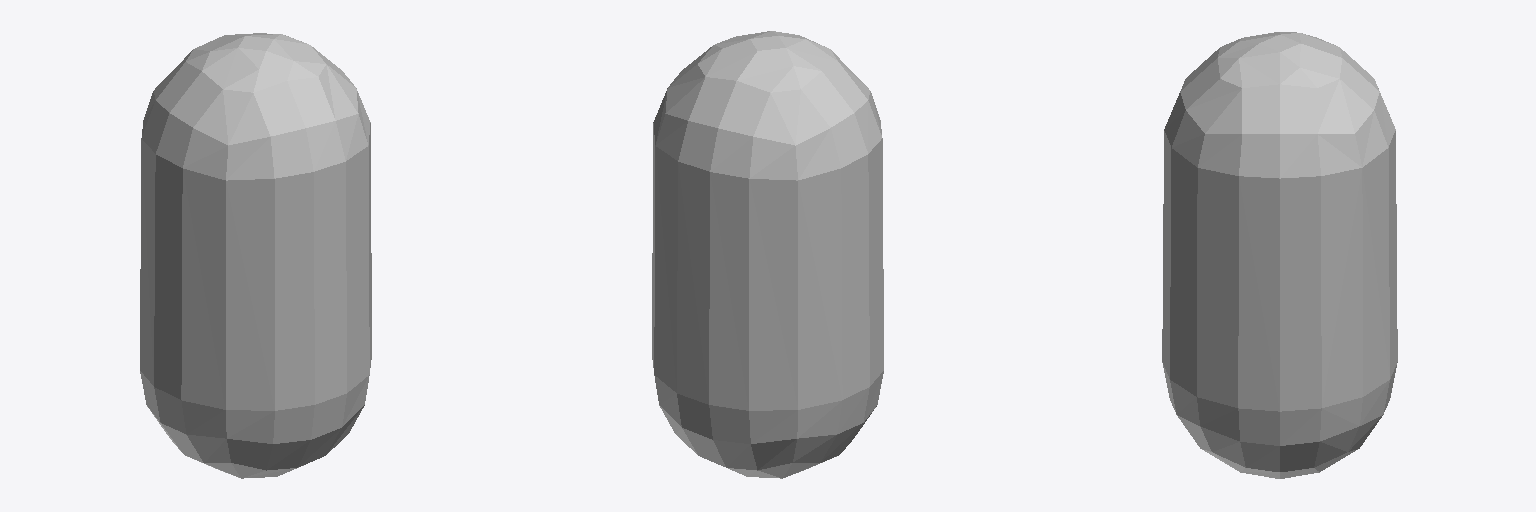
The model's file is SimpleCapsule.obj.
The picture shows the model from 3 angles: view 1: azimuth 30°, elevation 25°; view 2: azimuth 150°, elevation 25°; view 3: azimuth 270°, elevation 25°; orthographic projection.
Parts seen in each view (by area): view 1: Roundcube; view 2: Roundcube; view 3: Roundcube.
Boxes of the visible parts, x1=… form: Roundcube: x1=140, y1=33, x2=371, y2=478; Roundcube: x1=652, y1=31, x2=883, y2=478; Roundcube: x1=1162, y1=32, x2=1397, y2=478.
Bounding box in the file's own units: 2 × 3.98 × 2.